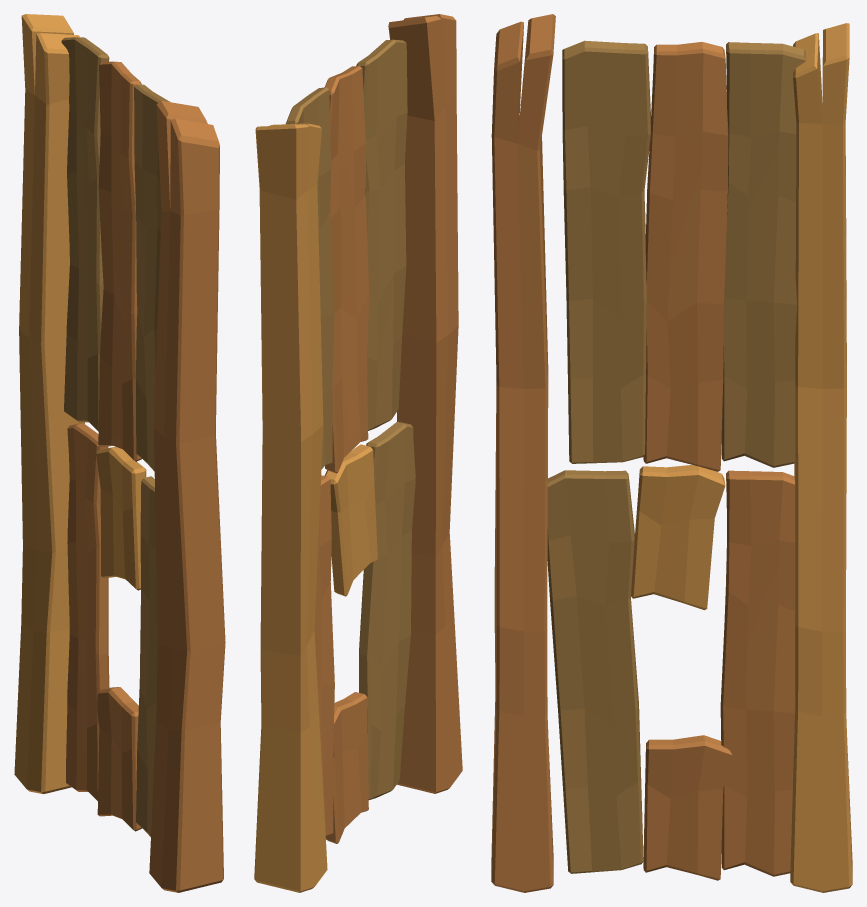
Rendered from Beach_House_Side_01.fbx.
3 views of the same model, side by side, from view 1: azimuth 30°, elevation 25°; view 2: azimuth 150°, elevation 25°; view 3: azimuth 270°, elevation 25° (orthographic). The views are drawn at different scales.
Parts seen in each view (by area): view 1: Beach_House_Side_01; view 2: Beach_House_Side_01; view 3: Beach_House_Side_01.
Boxes of the visible parts, bbox=[...] form: Beach_House_Side_01: bbox=[14, 14, 225, 892]; Beach_House_Side_01: bbox=[254, 14, 462, 892]; Beach_House_Side_01: bbox=[491, 14, 852, 892].
Bounding box in the file's own units: 0.71 × 10.02 × 3.81.
